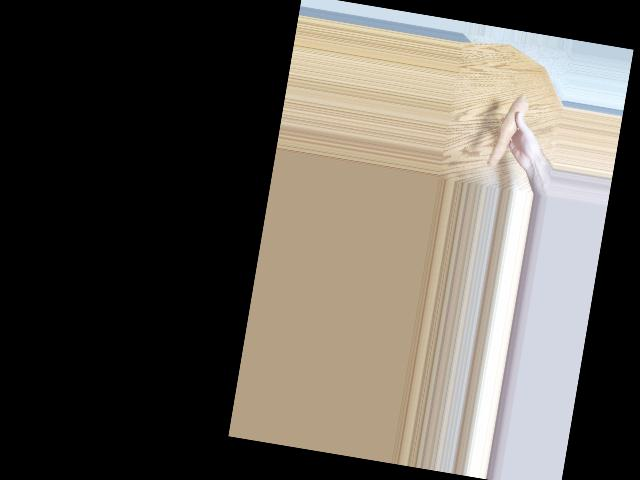sweet_potato: (492, 93, 525, 174)
